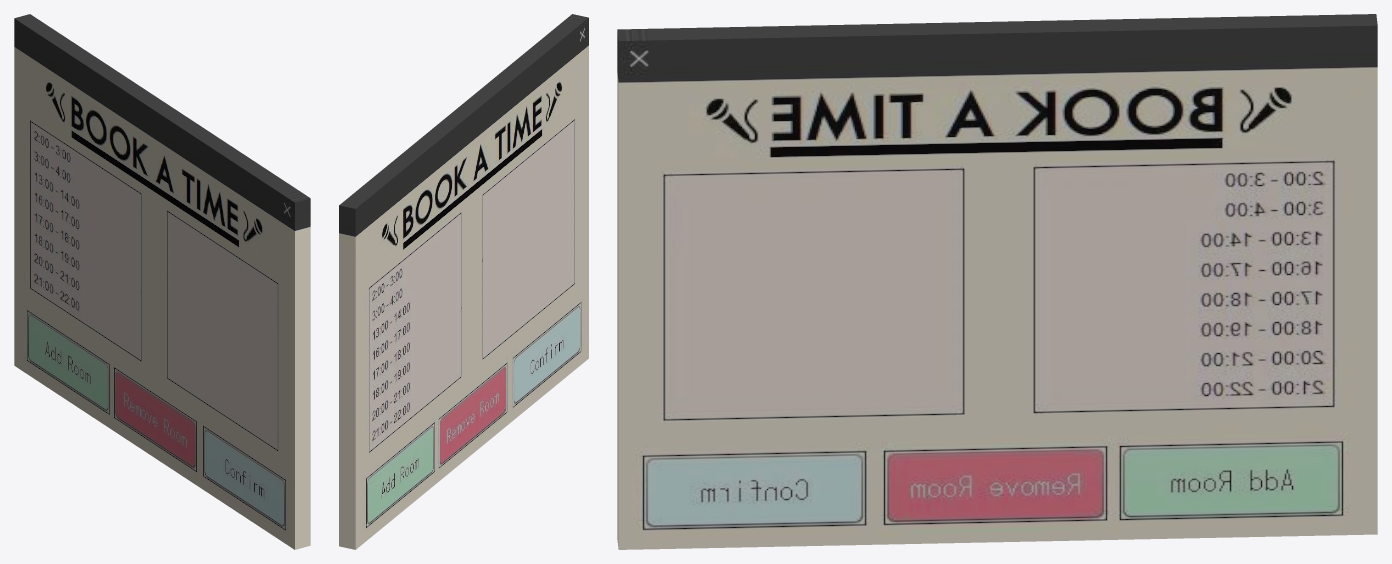
The model's file is image3.glb.
3 renders of one model, left to right at view 1: azimuth 30°, elevation 25°; view 2: azimuth 150°, elevation 25°; view 3: azimuth 270°, elevation 25°, orthographic. The views are drawn at different scales.
Visible parts, largest first — view 1: 825258891_1103770835514563_2856936289683407993_n; view 2: 825258891_1103770835514563_2856936289683407993_n; view 3: 825258891_1103770835514563_2856936289683407993_n.
Part boxes in pixels (x1,y1,x2,y2): 825258891_1103770835514563_2856936289683407993_n: (14,14,310,549); 825258891_1103770835514563_2856936289683407993_n: (339,14,588,549); 825258891_1103770835514563_2856936289683407993_n: (617,14,1377,549).
Bounding box in the file's own units: 0.2027 × 1.77 × 2.4.
Materials: 1 (1 with a texture image).
